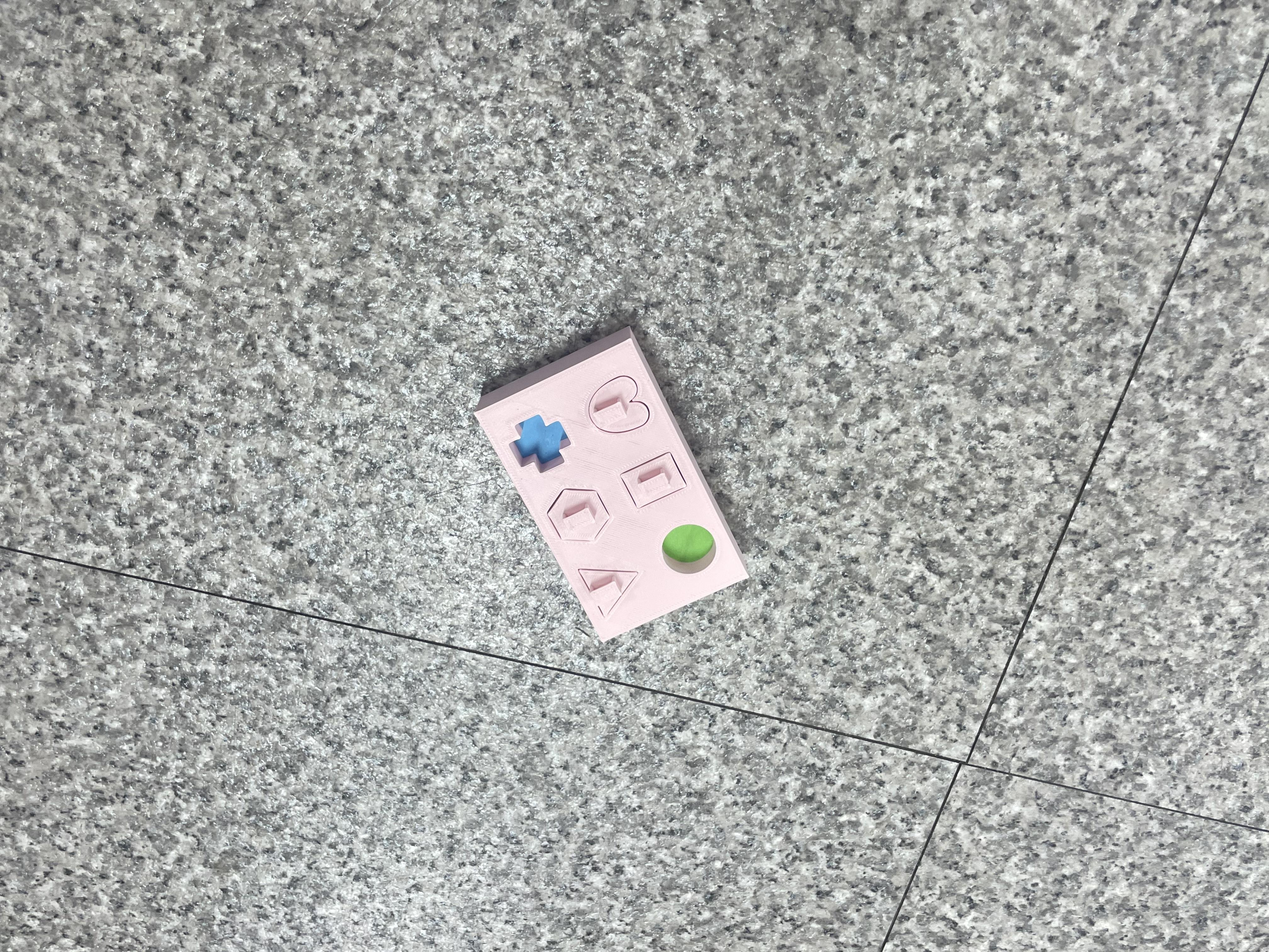unsolved: (475, 318, 754, 648)
